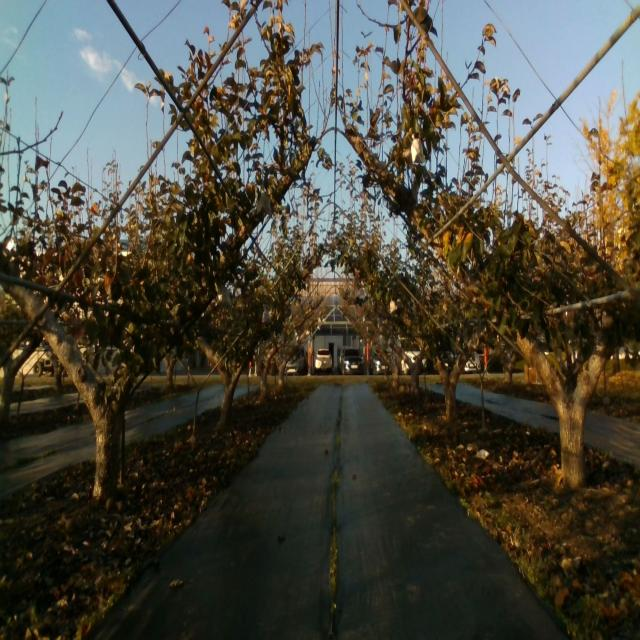pearbags: (411, 133, 426, 163), (215, 285, 232, 307), (256, 191, 272, 214)
